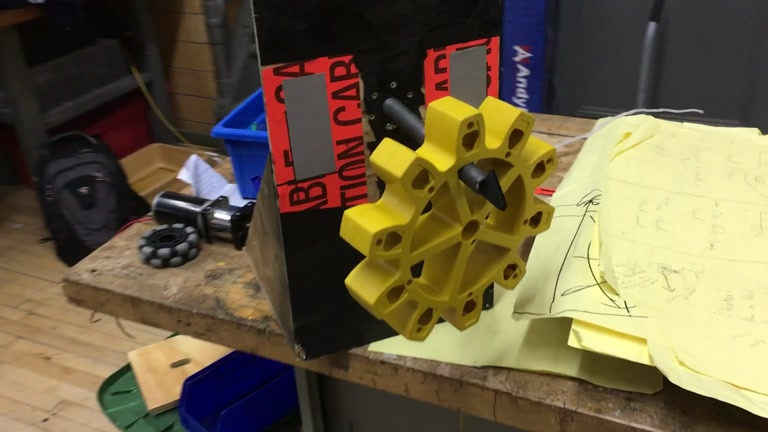gear: (338, 94, 560, 343)
